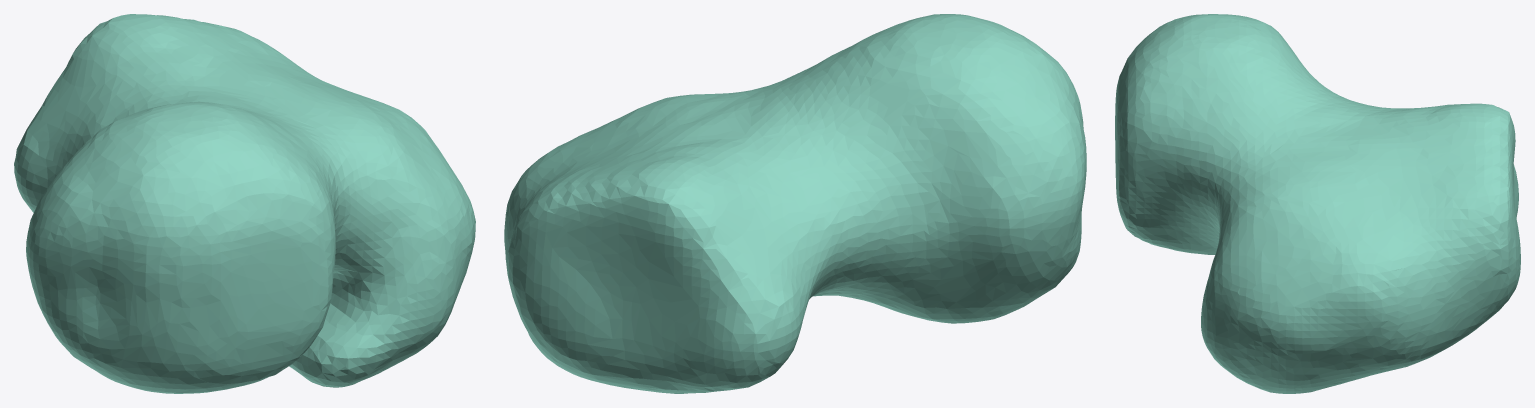
File: ours.glb
The picture shows the model from 3 angles, left to right: view 1: azimuth 30°, elevation 25°; view 2: azimuth 150°, elevation 25°; view 3: azimuth 270°, elevation 25°; orthographic projection. The views are drawn at different scales.
Visible parts, largest first — view 1: world; view 2: world; view 3: world.
Boxes of the visible parts, bbox=[...] form: world: bbox=[14, 14, 475, 393]; world: bbox=[504, 14, 1086, 393]; world: bbox=[1115, 14, 1520, 393].
Size of the model in its own units: 0.8844 by 0.6037 by 0.802.
